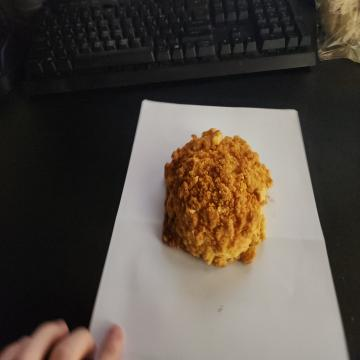soboru_bread: (160, 129, 271, 267)
